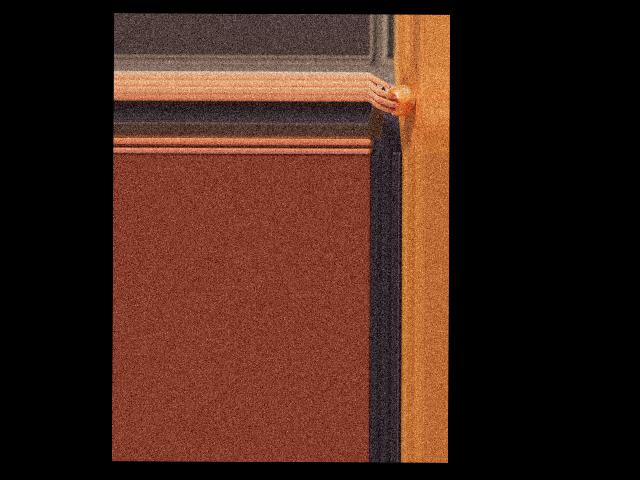onion: (385, 85, 416, 116)
